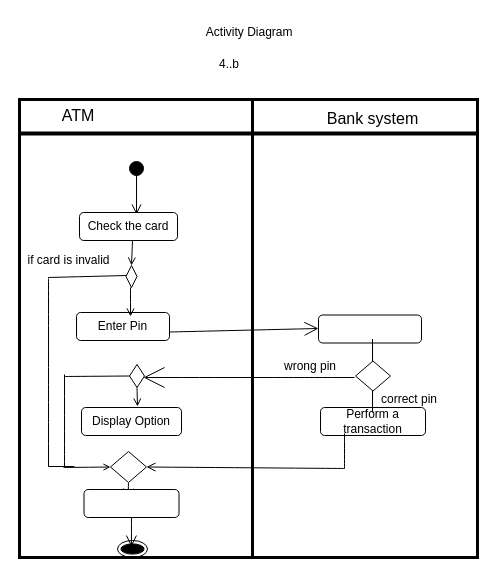
Some shapes in this 496 by 576 pixel diagram are drawn without their labels. Here are the shapes that lost their labels. From the top down, the centre of each, then its label:
At point (370, 328): "Check the pin number".
At point (131, 503): "Eject the card".
